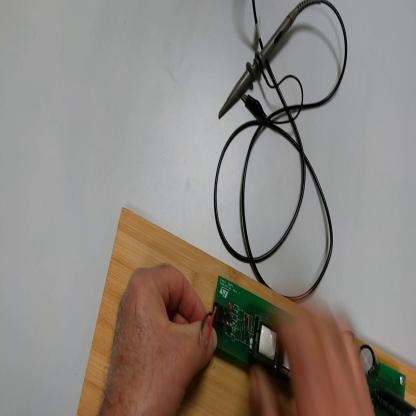hand: (98, 259, 216, 415), (251, 296, 377, 414)
high voltage board: (198, 274, 416, 415)
oscilloscope probe tip: (219, 10, 301, 117)
working area: (71, 210, 416, 414)
